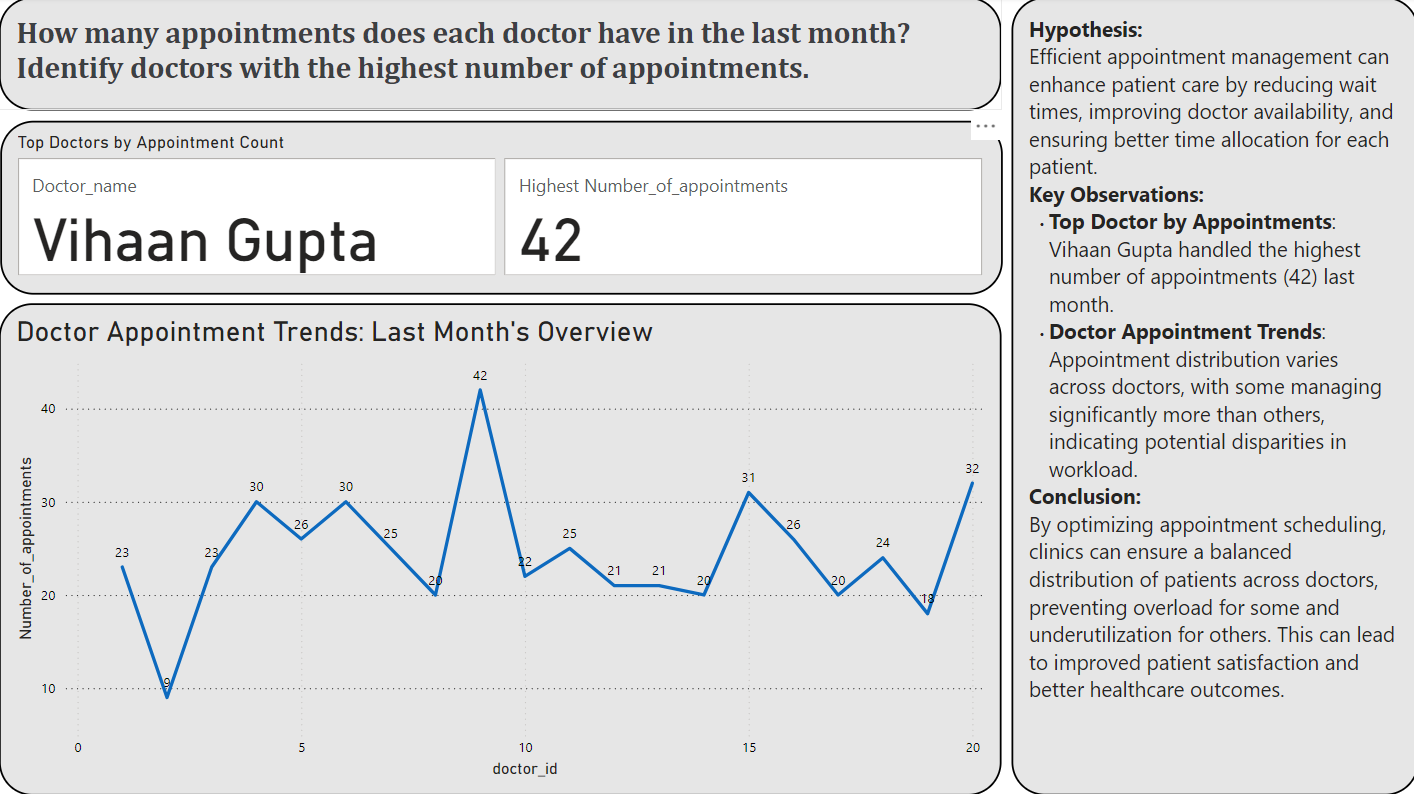

Layout of this report page (visuals, bound fields, positions):
{"tool":"powerbi","page":{"name":"Page 1","canvas":[1280,720],"ordinal":0},"visuals":[{"type":"lineChart","title":"Doctor Appointment Trends: Last Month''s Overview","fields":{"Category":["01.doctor_id"],"Y":["01.Number_of_appointments"]},"box":[0,276.4,903.7,443.9],"z":0},{"type":"cardVisual","title":"Top Doctors by Appointment Count","fields":{"Data":["1.1.Doctor_name","1.1.Number_of_appointments"]},"box":[1.2,111.3,903.7,156.5],"z":1000},{"type":"textbox","box":[0,0,904.3,102.4],"z":2000},{"type":"textbox","box":[913.5,0,366.8,720.2],"z":3000}]}

Visuals, with their boxes in screenshot pixels (x1, y1, x2, y2), scaled from the page's 1280x720 canvas onto the 1414x794 screenshot:
"Doctor Appointment Trends: Last Month''s Overview" lineChart: detection(0, 305, 998, 793)
"Top Doctors by Appointment Count" cardVisual: detection(1, 123, 1000, 295)
textbox: detection(0, 0, 999, 113)
textbox: detection(1009, 0, 1413, 793)
